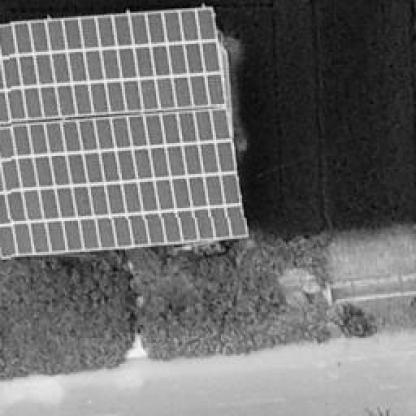solar-pv-panel: (0, 5, 249, 261)
